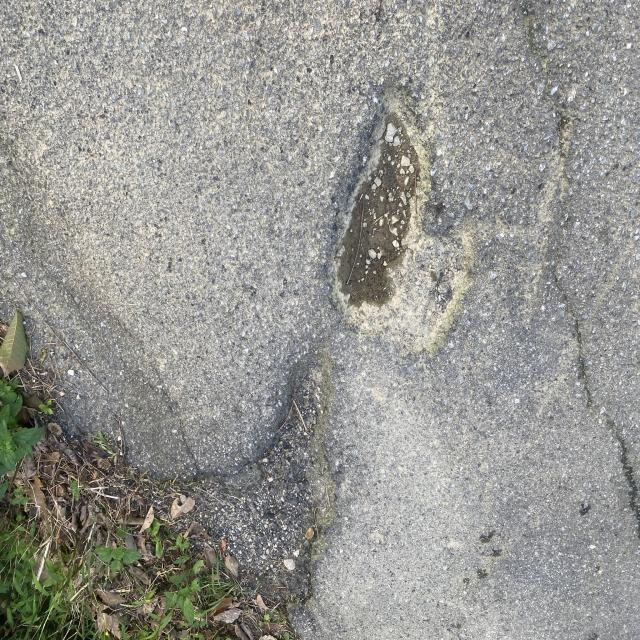pothole: (322, 86, 460, 376)
